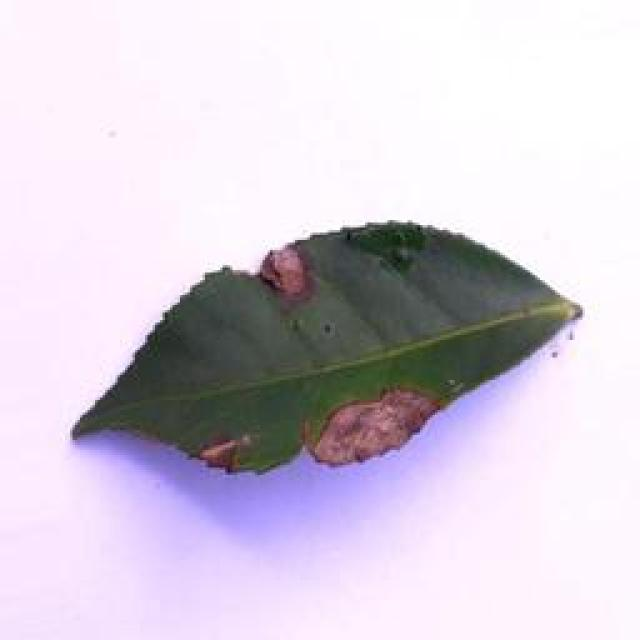Gray Blight: (68, 219, 579, 477)
